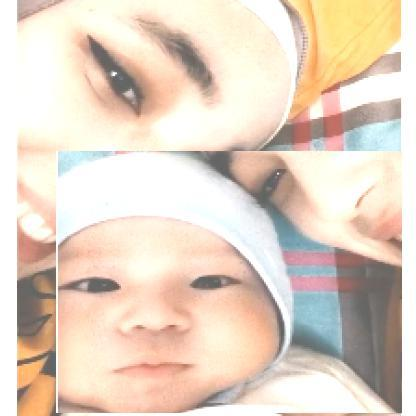child: (57, 152, 404, 415)
